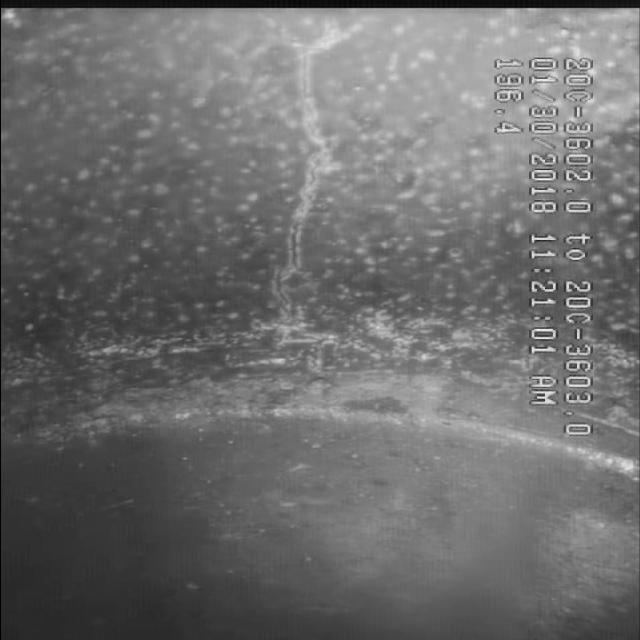Crack: (217, 29, 415, 388)
